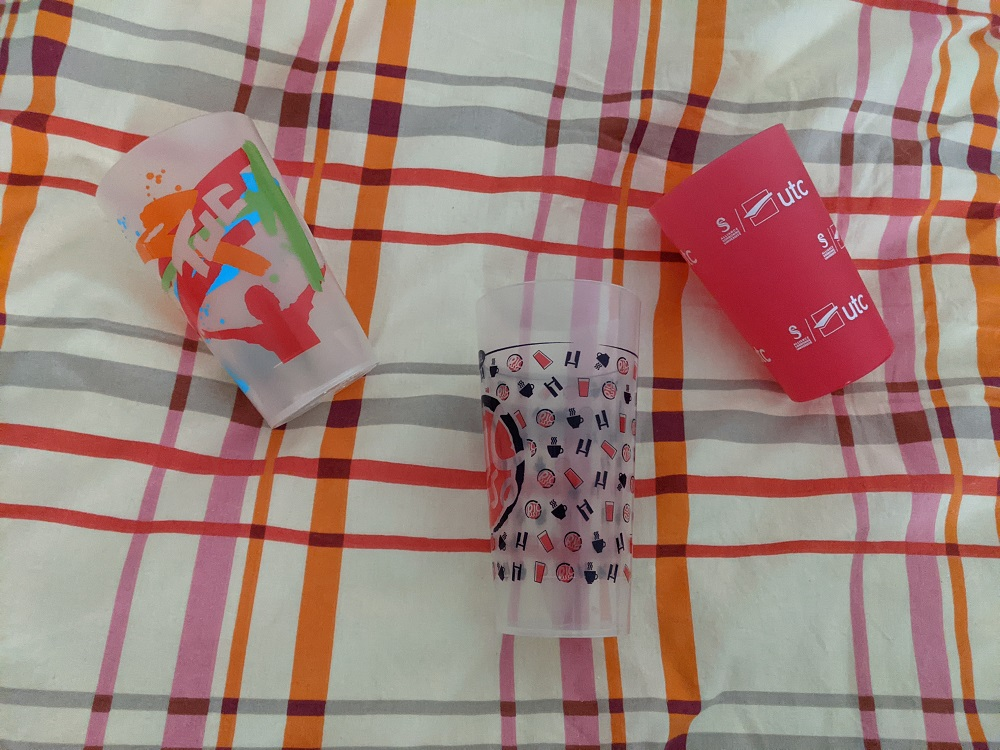ecocup: (96, 111, 379, 429), (649, 123, 895, 402), (476, 279, 641, 638)
